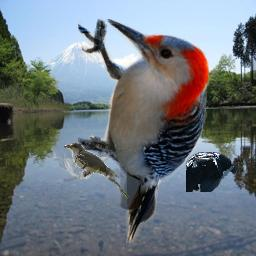Crow: (186, 152, 237, 192)
Cuckoo: (64, 143, 130, 199)
Woodpecker: (78, 19, 209, 243)
